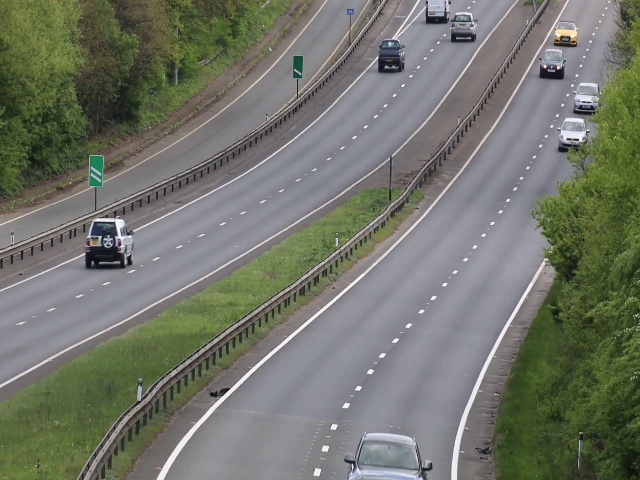car: (348, 432, 424, 480), (86, 217, 135, 269), (558, 117, 590, 151), (450, 9, 477, 44), (377, 37, 405, 70), (540, 45, 566, 80), (574, 79, 600, 114), (552, 19, 579, 46), (423, 1, 453, 22)
